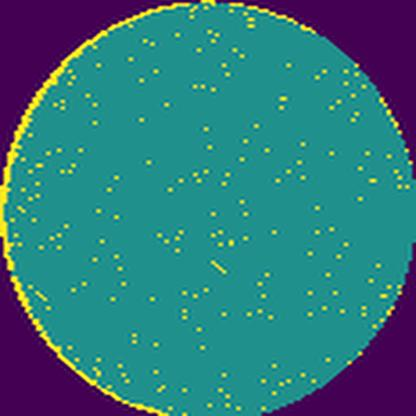Edge-Ring: (0, 0, 323, 416)
